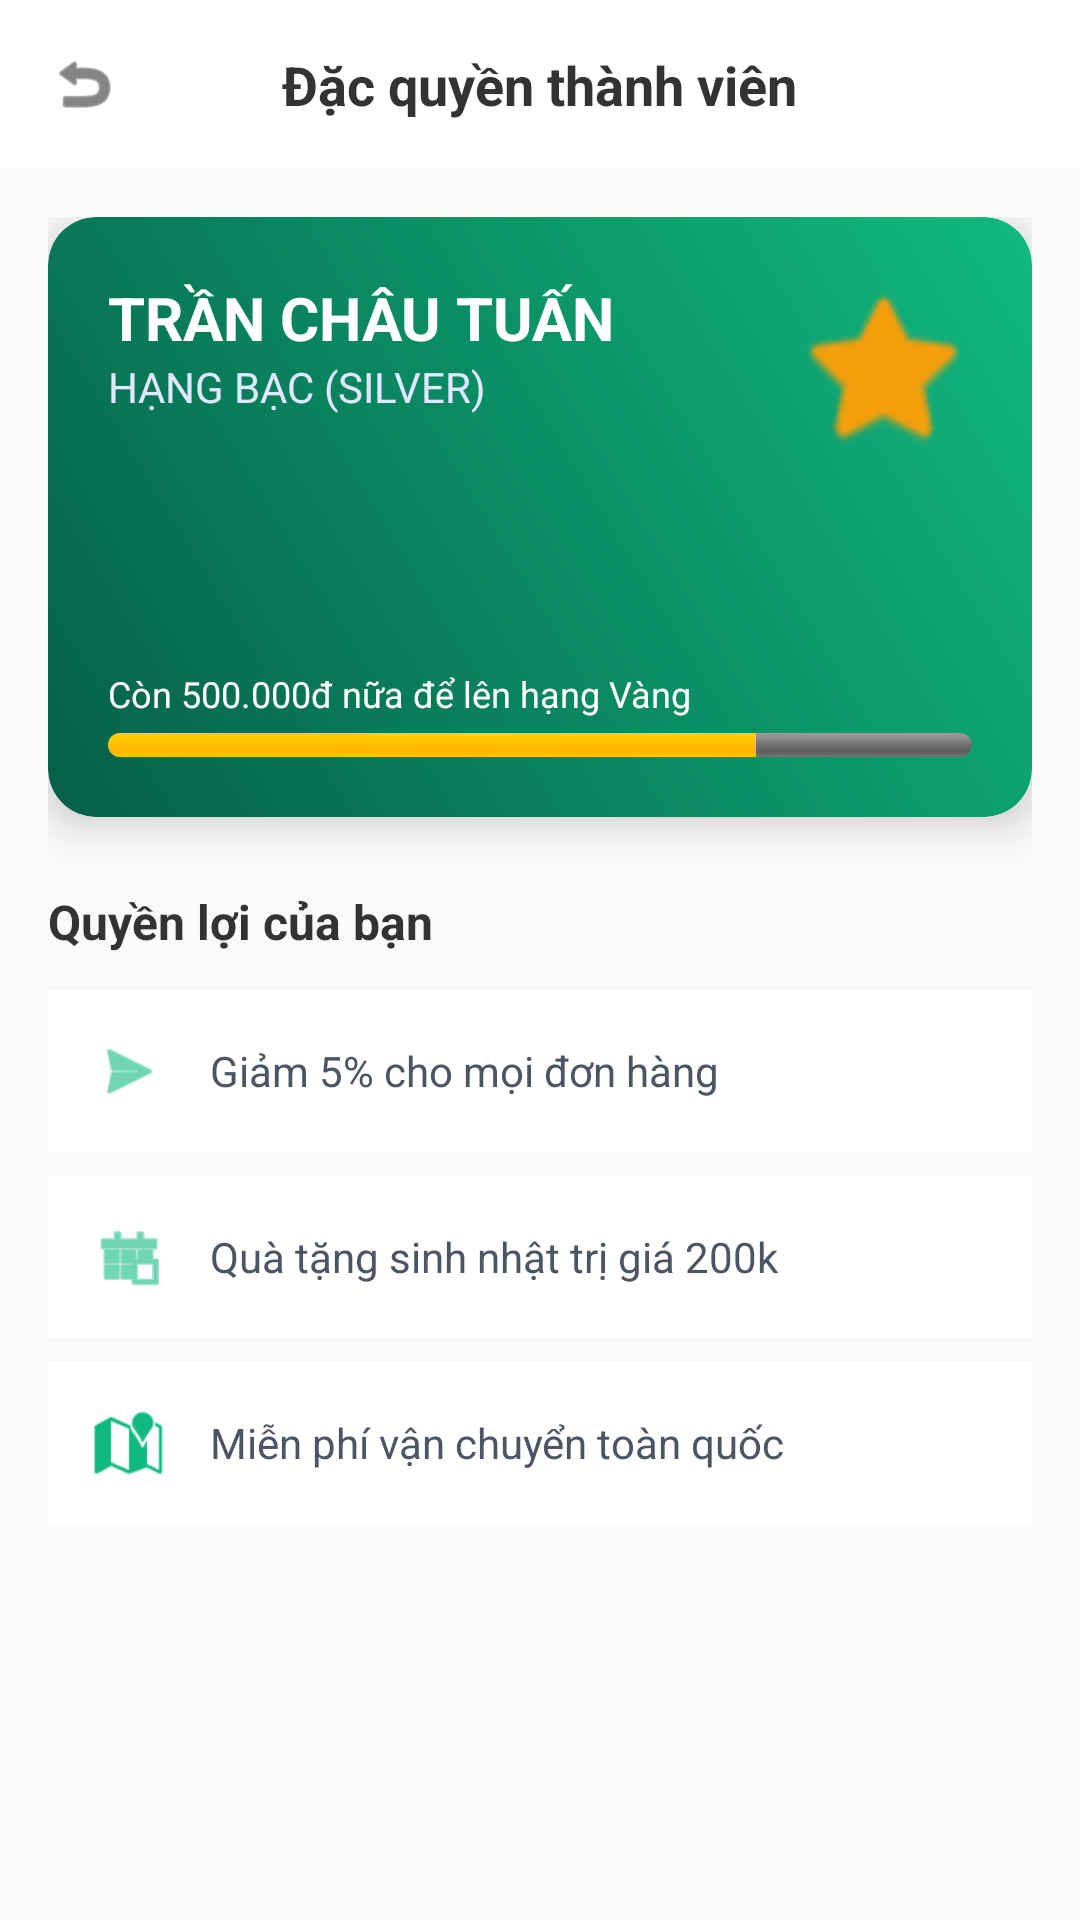

Named icons in this screenshot (1080px x 1920px) and their bounding boxes, rect(x1, y1, x2, y2):
map: rect(94, 1411, 163, 1475)
revert: rect(59, 61, 111, 108)
send: rect(107, 1049, 153, 1094)
star on: rect(808, 295, 959, 442)
today: rect(100, 1231, 159, 1286)
